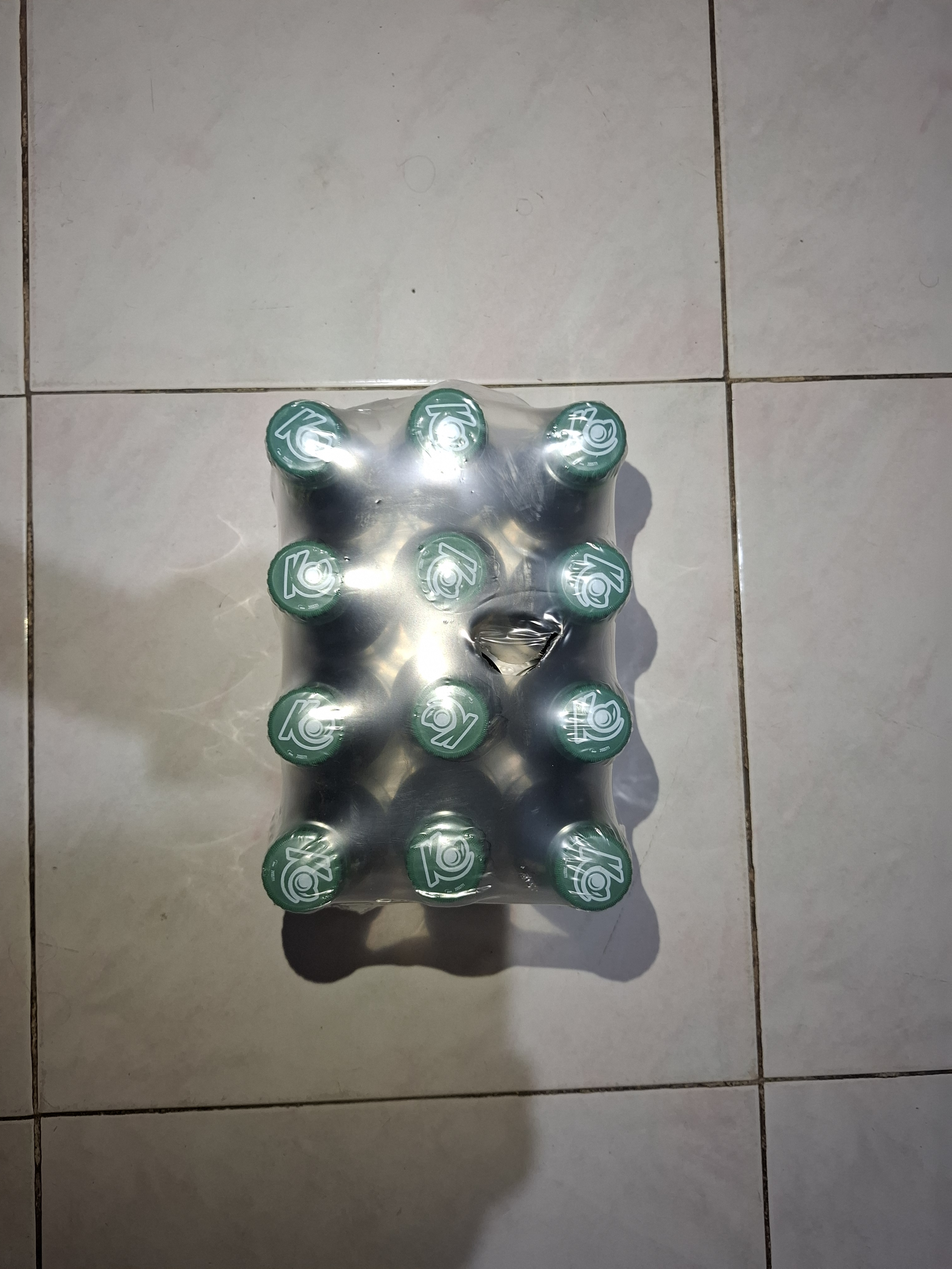Tampa Refrigerante Kuat: (395, 519, 498, 617), (538, 390, 633, 490), (543, 816, 636, 916), (258, 816, 355, 911), (401, 809, 492, 905), (403, 386, 492, 479), (544, 680, 635, 770), (261, 397, 350, 485), (263, 683, 350, 770), (403, 675, 490, 760), (263, 538, 348, 621), (543, 538, 628, 619)
